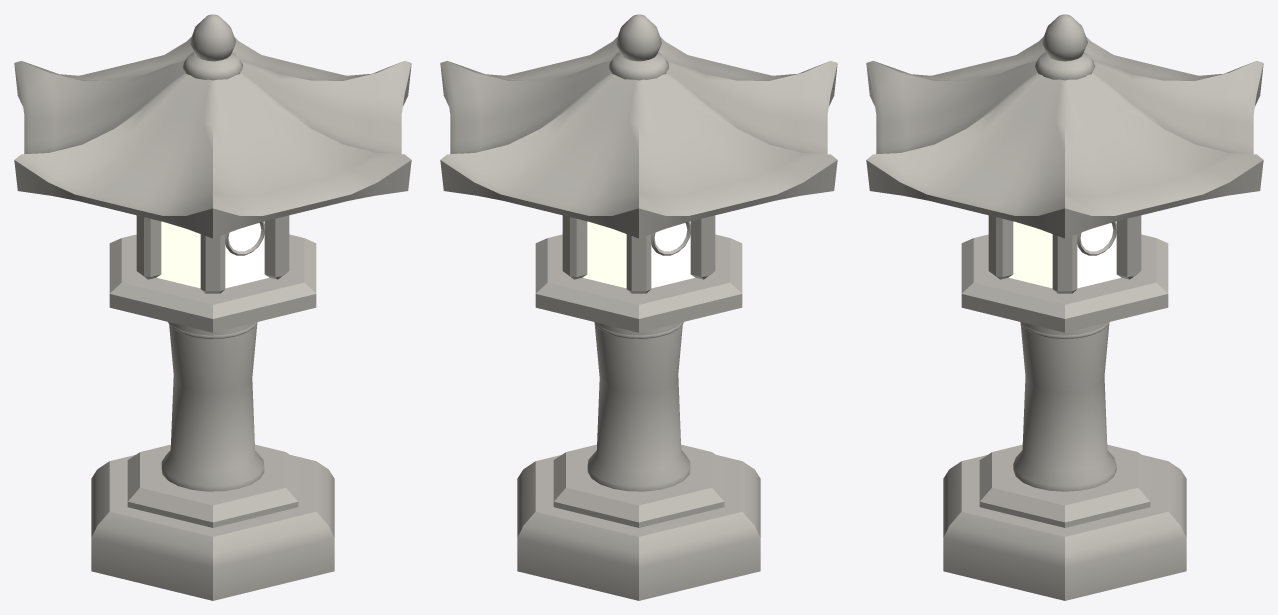
The model's file is stone_lantern.glb.
3 views of the same model, side by side, from view 1: azimuth 30°, elevation 25°; view 2: azimuth 150°, elevation 25°; view 3: azimuth 270°, elevation 25° (orthographic).
Visible parts, largest first — view 1: stone_lantern; view 2: stone_lantern; view 3: stone_lantern.
Boxes of the visible parts, x1=… form: stone_lantern: x1=14, y1=14, x2=411, y2=600; stone_lantern: x1=440, y1=14, x2=837, y2=600; stone_lantern: x1=866, y1=14, x2=1263, y2=600.
Bounding box in the file's own units: 0.7541 × 0.955 × 0.6531.
